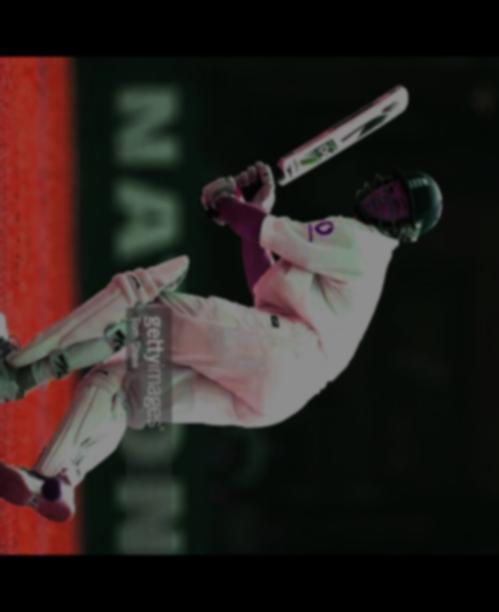batsman: (0, 112, 485, 504)
